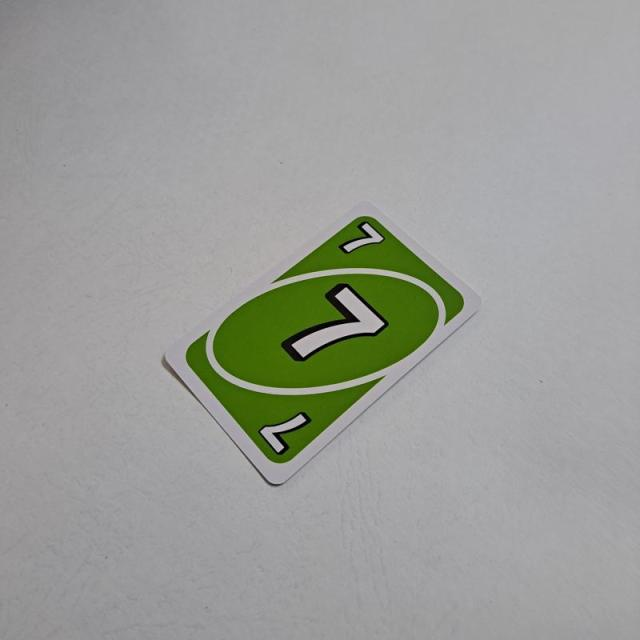Green_Card: (180, 210, 467, 466)
Number_7: (334, 215, 394, 262)
